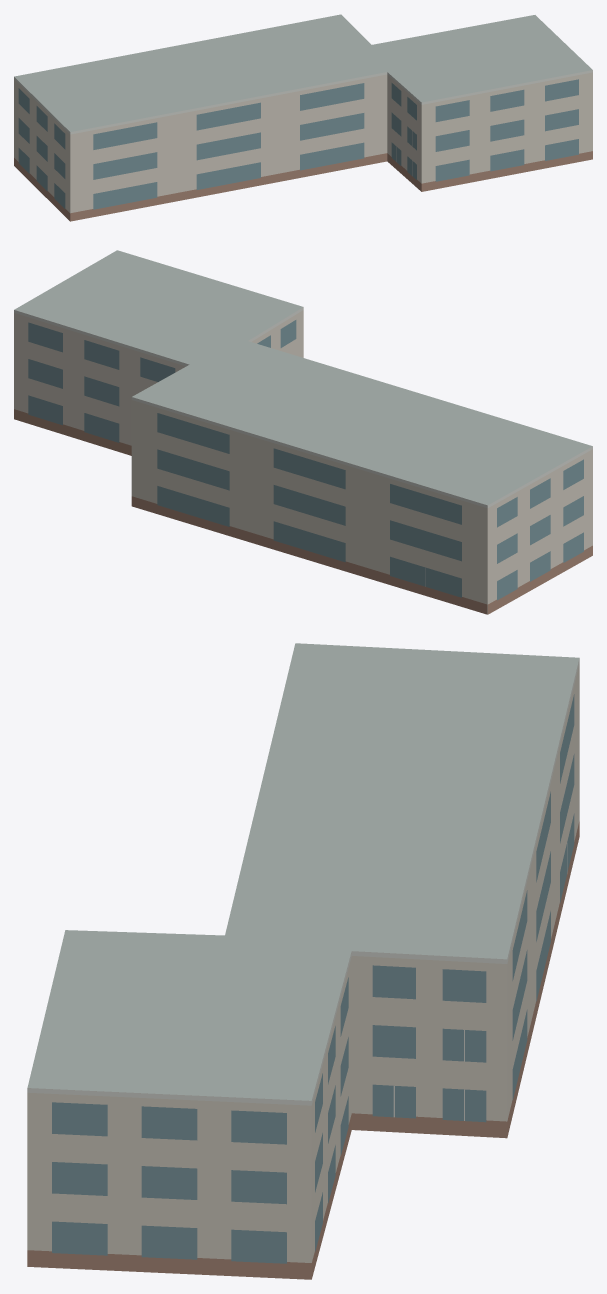
Rendered from survey-upis-32771786.glb.
The picture shows the model from 3 angles, top to bottom: view 1: azimuth 30°, elevation 25°; view 2: azimuth 150°, elevation 25°; view 3: azimuth 270°, elevation 25°; orthographic projection. The views are drawn at different scales.
Visible parts, largest first — view 1: survey-upis-32771786.tmp; view 2: survey-upis-32771786.tmp; view 3: survey-upis-32771786.tmp.
Part boxes in pixels (x1,y1,x2,y2): survey-upis-32771786.tmp: (14,14,592,221); survey-upis-32771786.tmp: (14,250,592,614); survey-upis-32771786.tmp: (27,643,579,1279).
Size of the model in its own units: 50.24 by 9.15 by 25.62.
